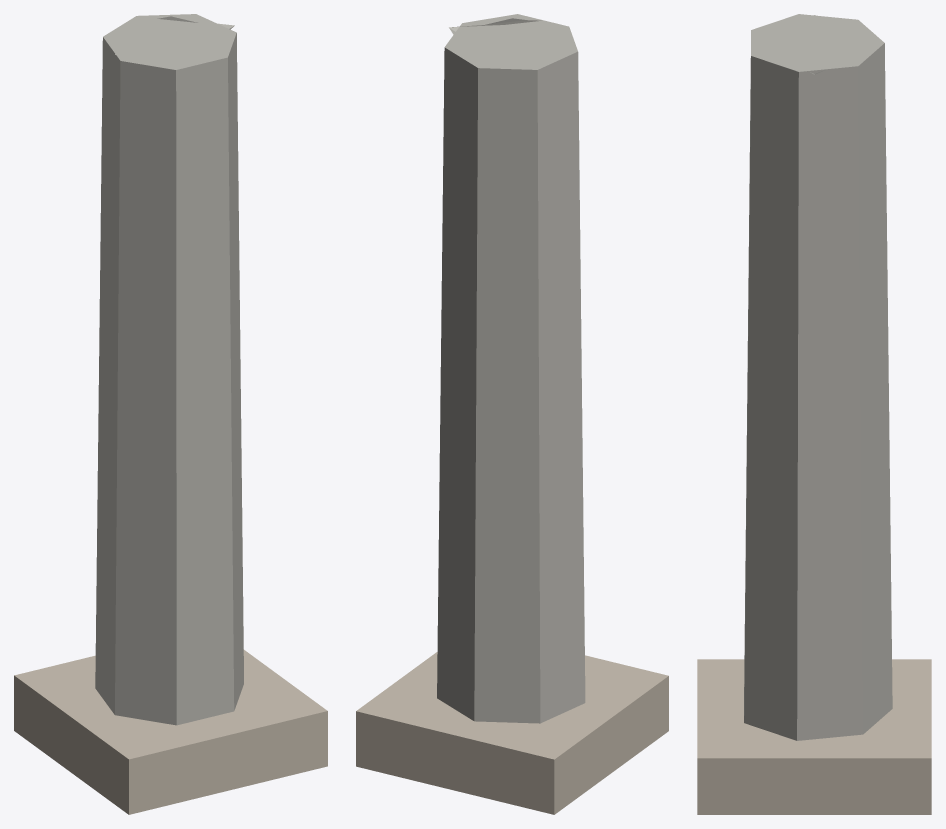
Rendered from column_v28.glb.
The picture shows the model from 3 angles, left to right: view 1: azimuth 30°, elevation 25°; view 2: azimuth 150°, elevation 25°; view 3: azimuth 270°, elevation 25°; orthographic projection. The views are drawn at different scales.
Parts seen in each view (by area): view 1: lod0; view 2: lod0; view 3: lod0.
Part boxes in pixels (x1,y1,x2,y2): lod0: (14, 14, 327, 814); lod0: (356, 14, 668, 814); lod0: (697, 14, 931, 814).
Size of what is drawn, in the model's own units: 0.6 by 2.11 by 0.6.
